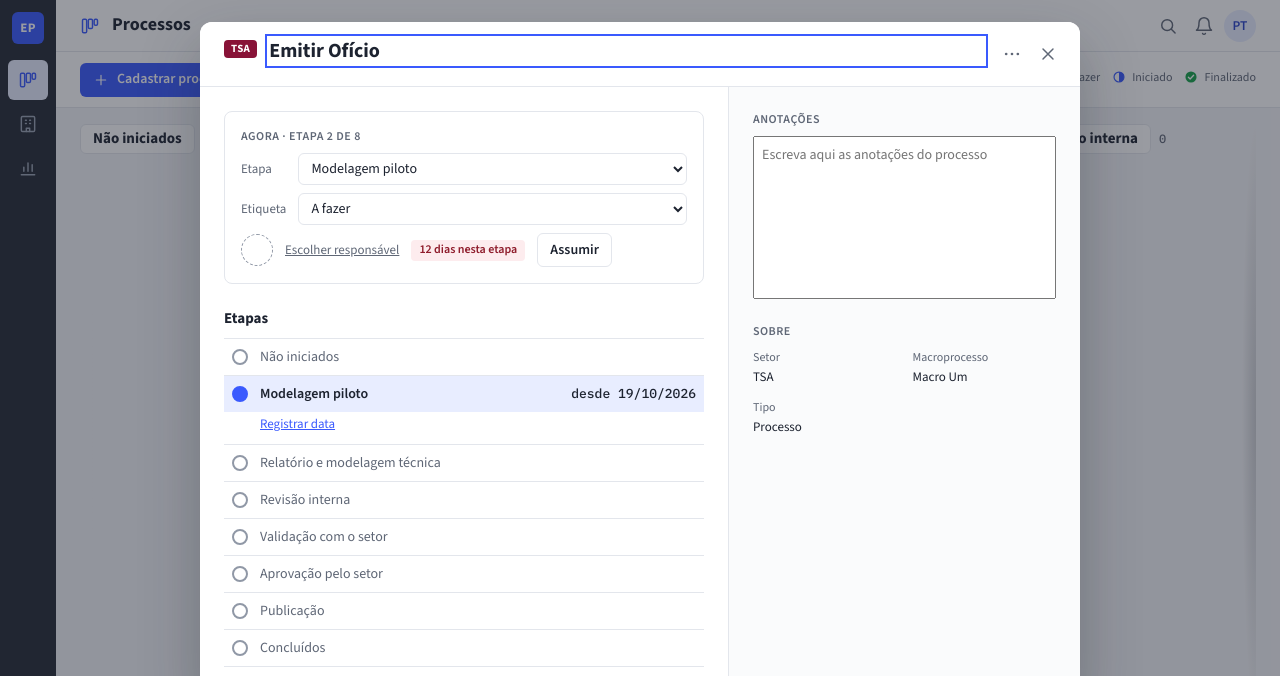
Test: excluir processo com versões mostra em vermelho a contagem e o caminho (cancelar), e o processo continua
What coordinates should you click on to do the following:
click the button named "Ações do processo"
I would click on:
 (1012, 54)
Its box is [996,38,1028,70].
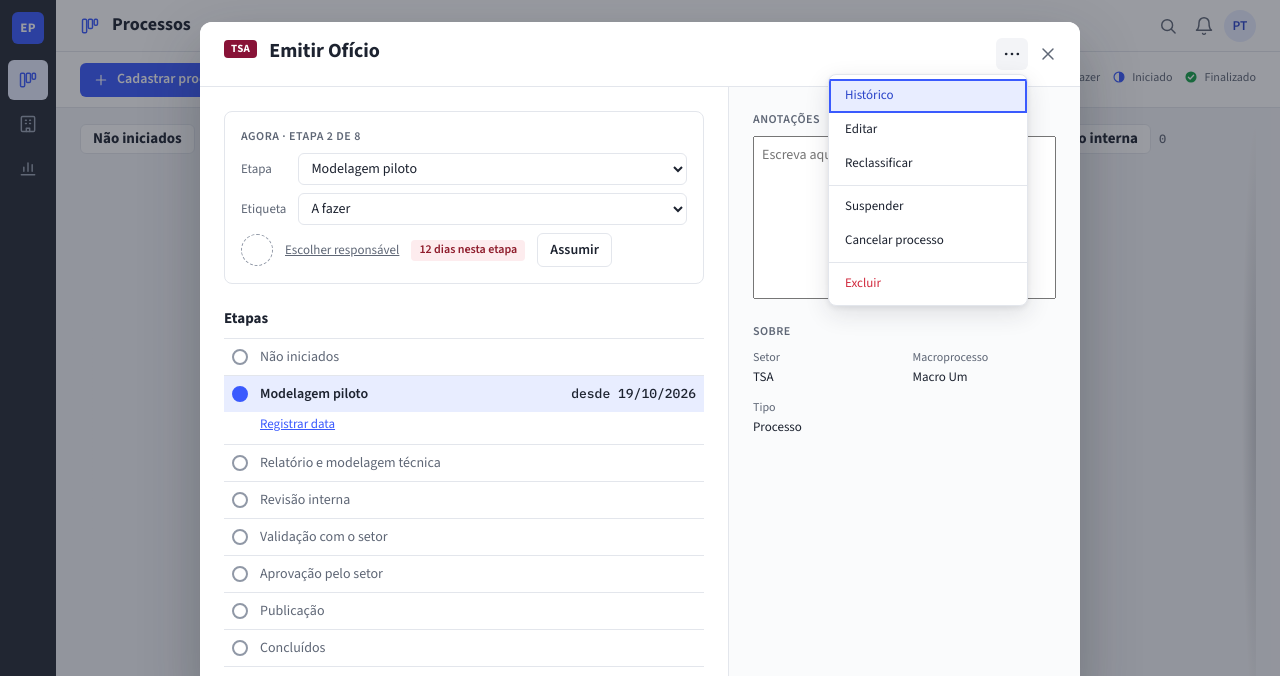
What coordinates should you click on to do the following:
click the menu item "Excluir"
I would click on:
 (928, 284)
Its box is [829,267,1027,301].
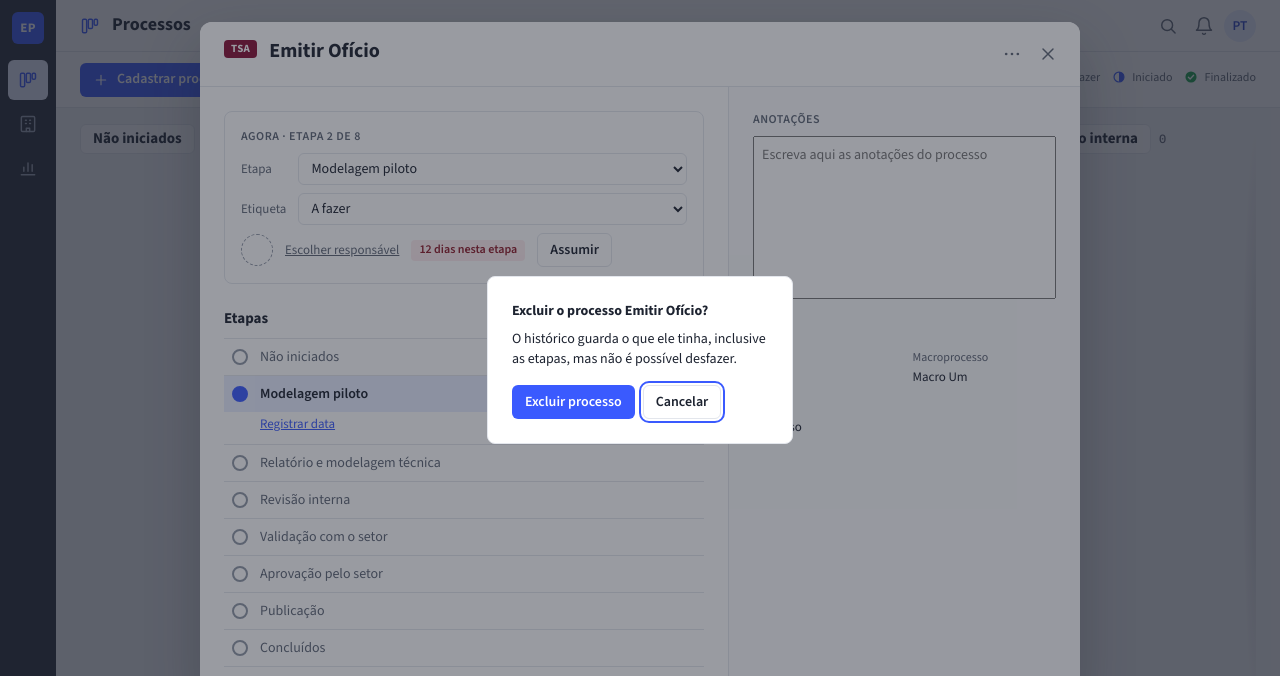
What coordinates should you click on to do the following:
click the button "Excluir processo"
I would click on:
 (573, 402)
Its box is [512,385,635,419].
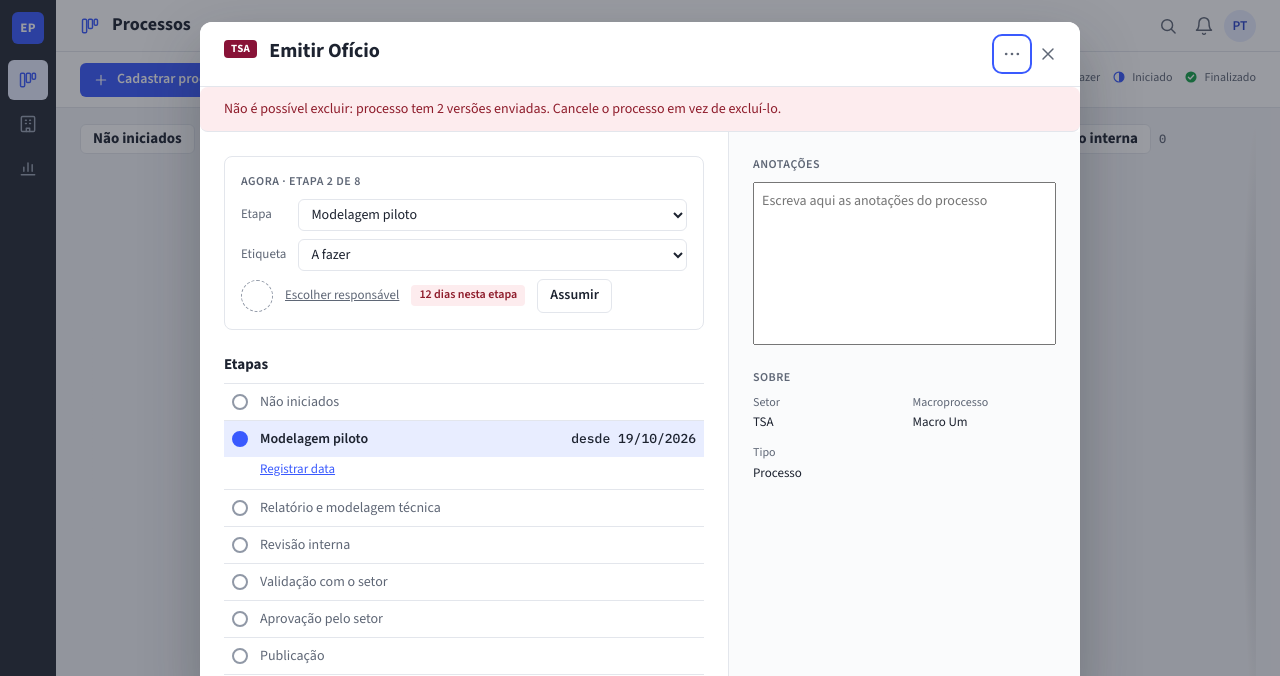
Expected: the message shows "Não é possível excluir: processo tem 2 versões enviadas. Cancele o processo em vez de excluí-lo.", [224,99,781,119]
